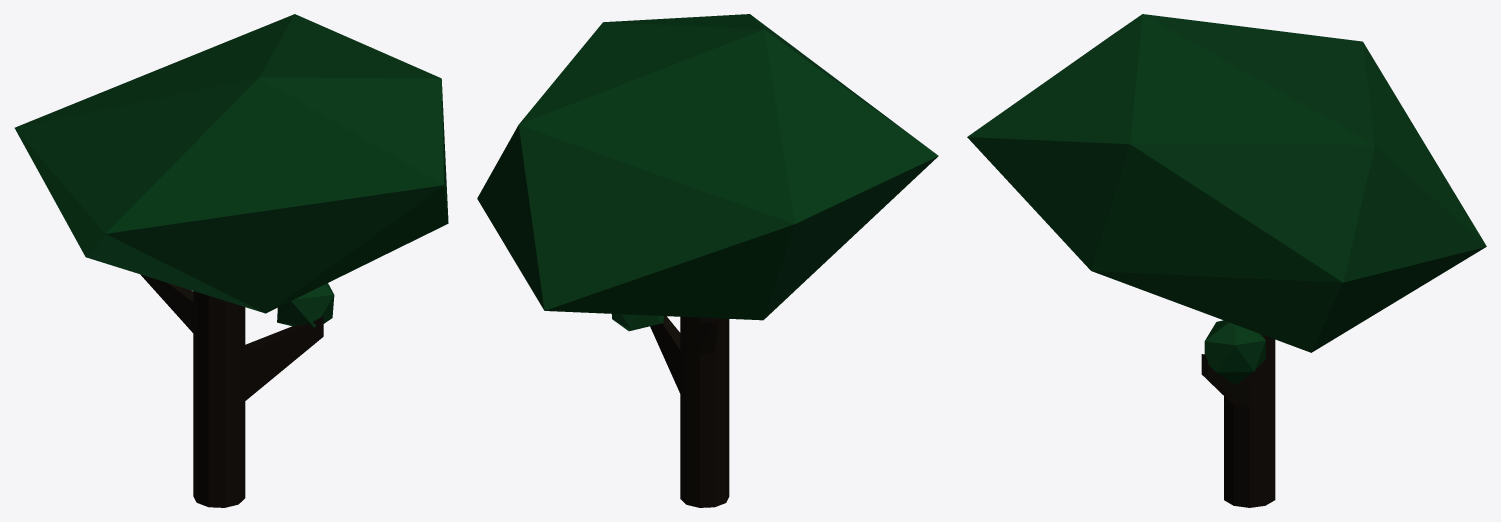
The model's file is alice_tree1.FBX.
3 renders of one model, left to right at view 1: azimuth 30°, elevation 25°; view 2: azimuth 150°, elevation 25°; view 3: azimuth 270°, elevation 25°, orthographic. The views are drawn at different scales.
Visible parts, largest first — view 1: GeoSphere008, Cylinder003, GeoSphere009; view 2: GeoSphere008, Cylinder003, GeoSphere009; view 3: GeoSphere008, Cylinder003, GeoSphere009.
Part boxes in pixels (x1,y1,x2,y2): GeoSphere008: (14, 14, 448, 313); Cylinder003: (140, 274, 323, 507); GeoSphere009: (277, 283, 334, 327); GeoSphere008: (477, 14, 938, 320); Cylinder003: (650, 316, 729, 507); GeoSphere009: (611, 314, 663, 331); GeoSphere008: (967, 14, 1486, 352); Cylinder003: (1201, 334, 1275, 507); GeoSphere009: (1204, 320, 1265, 385).
Size of the model in its own units: 393 by 459 by 454.
